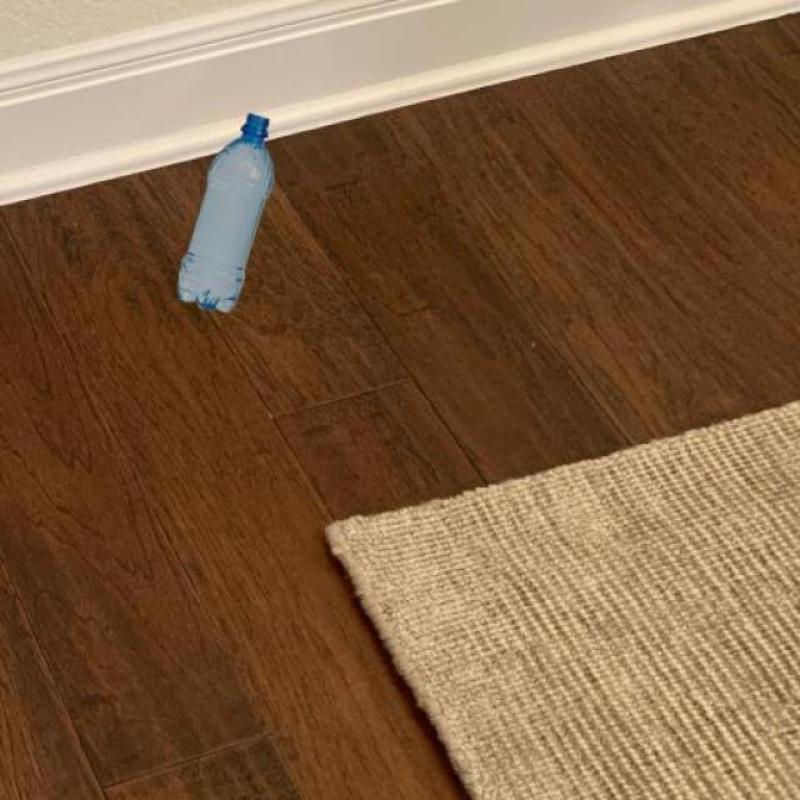botella: (174, 114, 274, 312)
